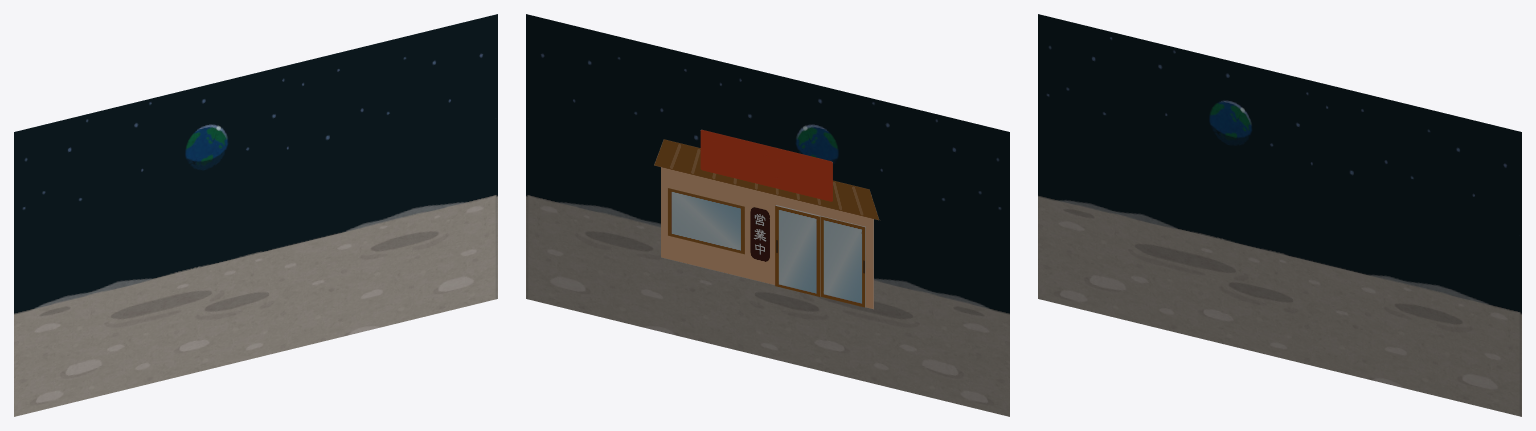
File: shop.fbx
3 views of the same model, side by side, from view 1: azimuth 30°, elevation 25°; view 2: azimuth 150°, elevation 25°; view 3: azimuth 330°, elevation 25° (orthographic).
Visible parts, largest first — view 1: cosmo; view 2: cosmo, shop, door2, door1; view 3: cosmo.
Part boxes in pixels (x1=…): cosmo: x1=14, y1=14, x2=497, y2=416; cosmo: x1=526, y1=14, x2=1009, y2=416; shop: x1=654, y1=129, x2=880, y2=309; door2: x1=820, y1=216, x2=865, y2=307; door1: x1=775, y1=205, x2=819, y2=296; cosmo: x1=1038, y1=14, x2=1521, y2=416.
Bounding box in the file's own units: 3200 × 1800 × 20.
Materials: 4 (4 with a texture image).
